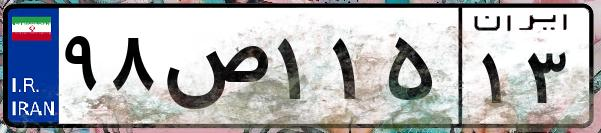1: (270, 28, 330, 110), (330, 28, 385, 110), (475, 38, 525, 113)
3: (525, 38, 570, 115)
5: (385, 28, 445, 110)
8: (110, 28, 158, 98)
9: (57, 26, 110, 100)
ص: (158, 20, 270, 120)
